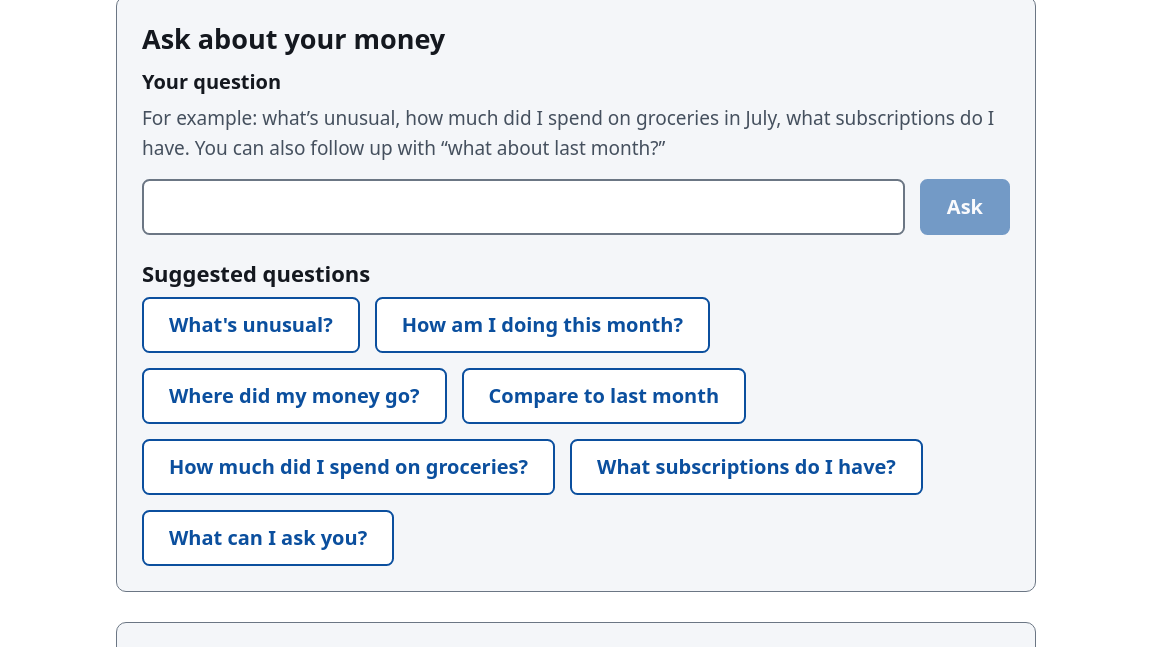
it: App › records both sides of every turn in the transcript
(page scrolled)
Click the button "What's unusual?" at (251, 325), box [142,297,360,353]
(page scrolled)
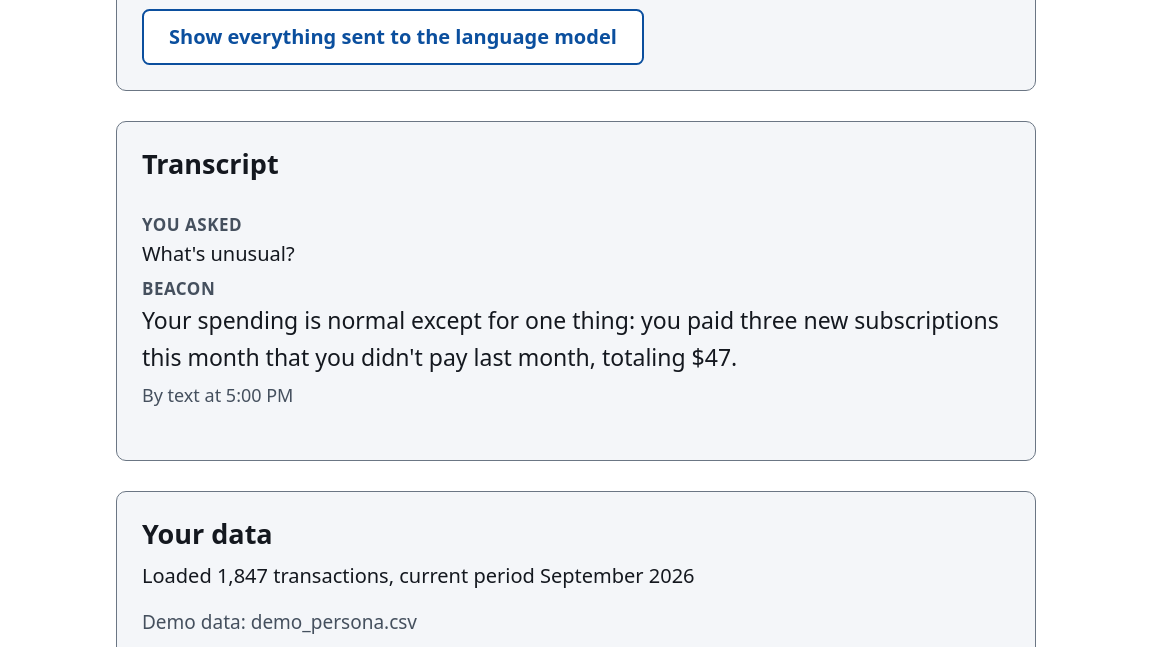
Result: the text "You asked What's unusual?" is shown at [142,213,295,267]
Result: the text "Your spending is normal except for one thing: you paid three new subscriptions this month that you didn't pay last month" is shown at [142,304,999,373]
